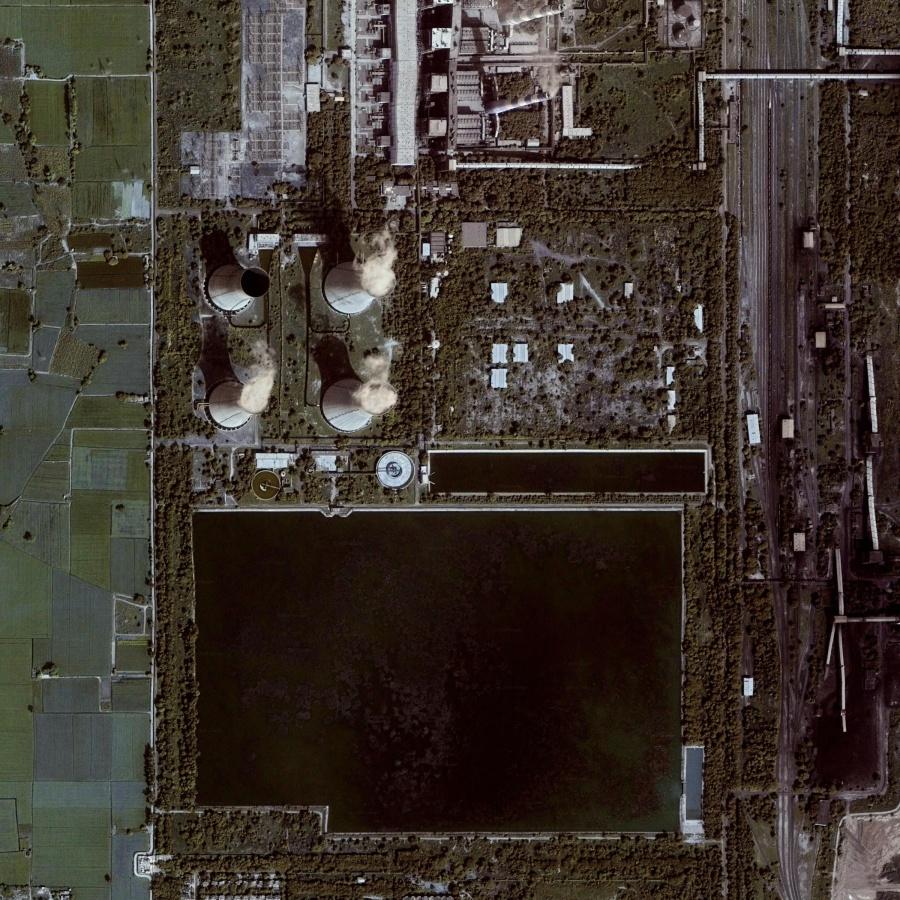PowerPlant: (168, 489, 721, 861)
